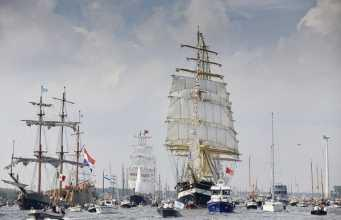fanchuan: (6, 84, 115, 206), (179, 28, 245, 206)
otherboat: (207, 174, 244, 216)
